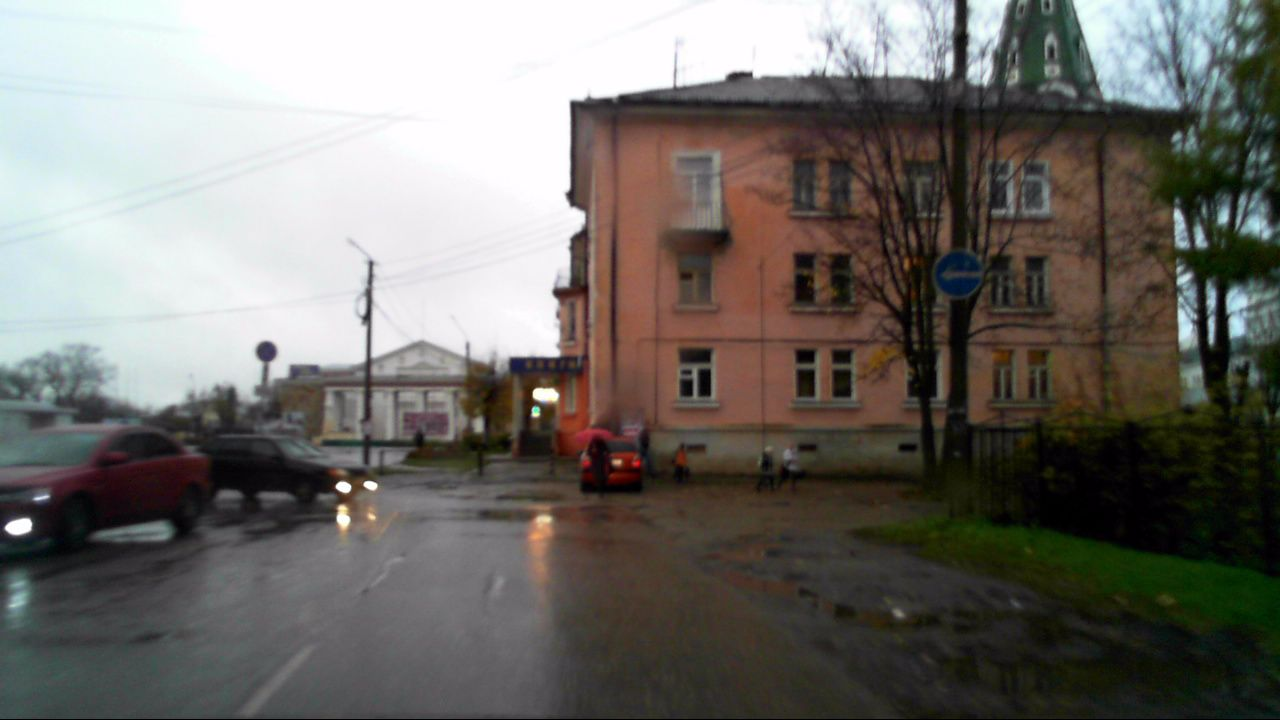Turn Left: (932, 249, 983, 296)
